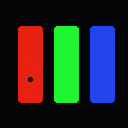0 point: (28, 77, 32, 81)
